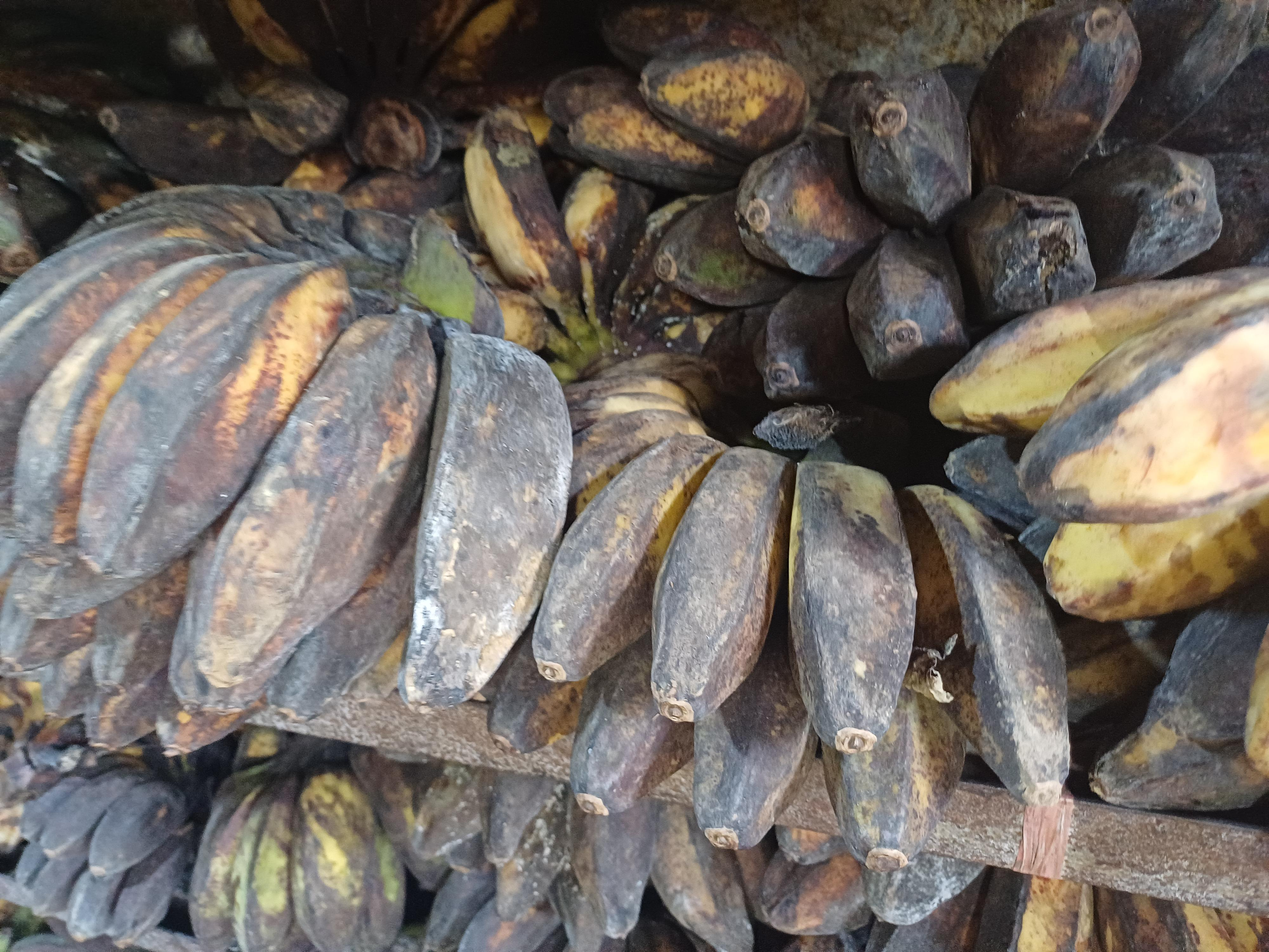overripe: (0, 183, 571, 759), (488, 354, 1069, 870), (654, 0, 1269, 399), (413, 762, 780, 952), (196, 0, 581, 148), (543, 0, 809, 192), (14, 765, 191, 949)
ripe: (930, 268, 1269, 621), (465, 108, 704, 316)
underripe: (190, 755, 405, 952)
